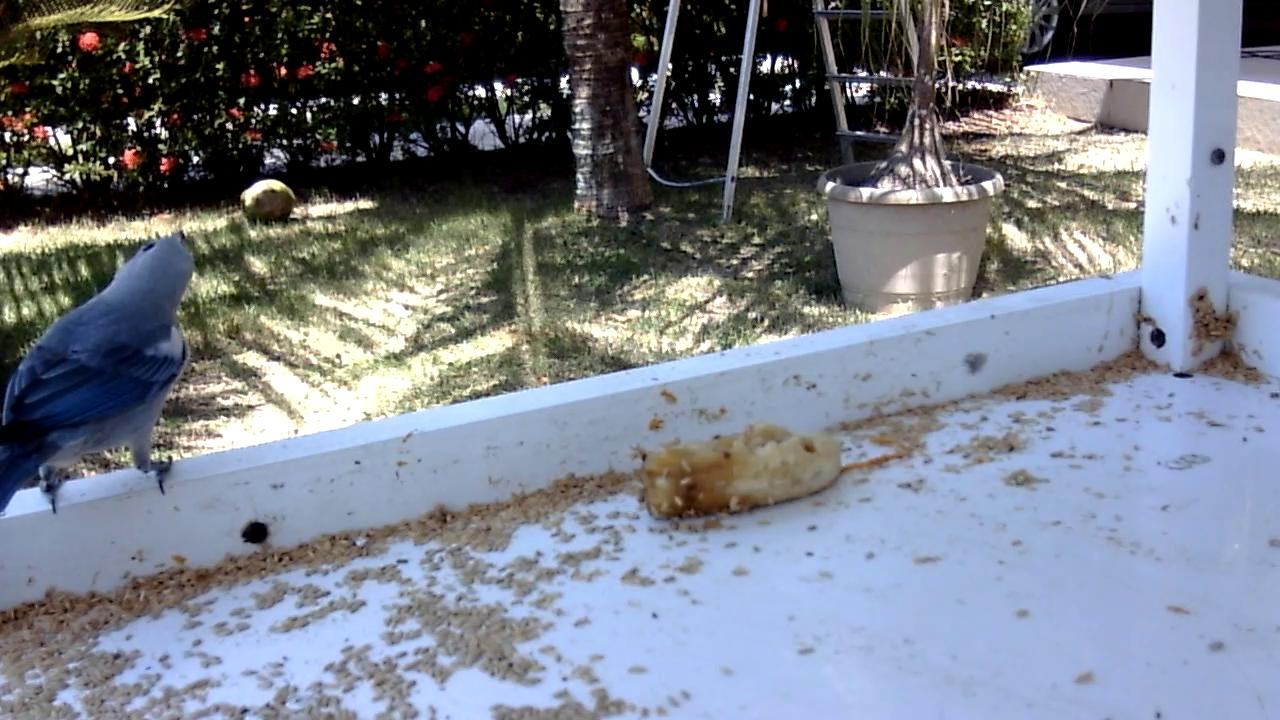sanhaco_da_amazonia: (1, 237, 203, 518)
